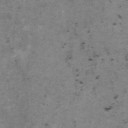oxide scale of temperature system: (104, 106, 112, 111)
